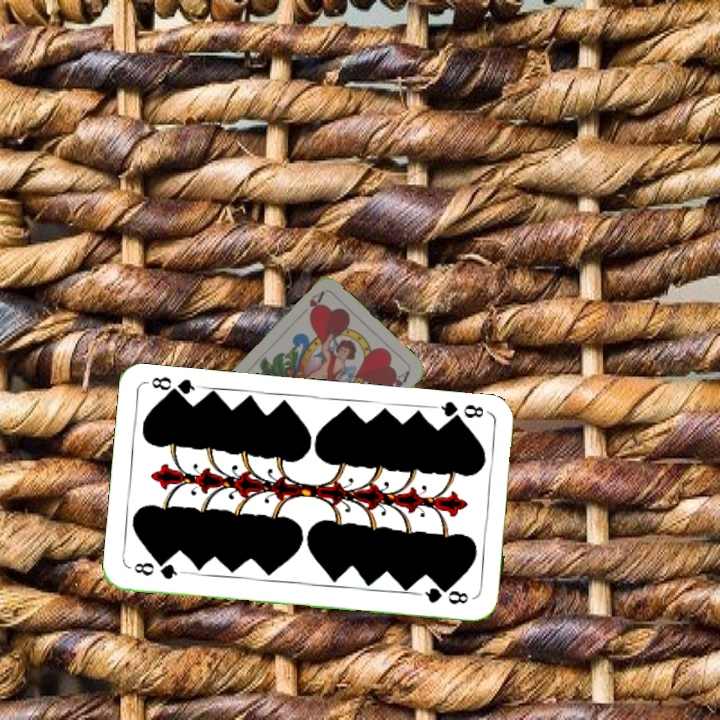G8: (432, 397, 492, 426), (130, 558, 186, 582)
HA: (294, 287, 327, 321)
